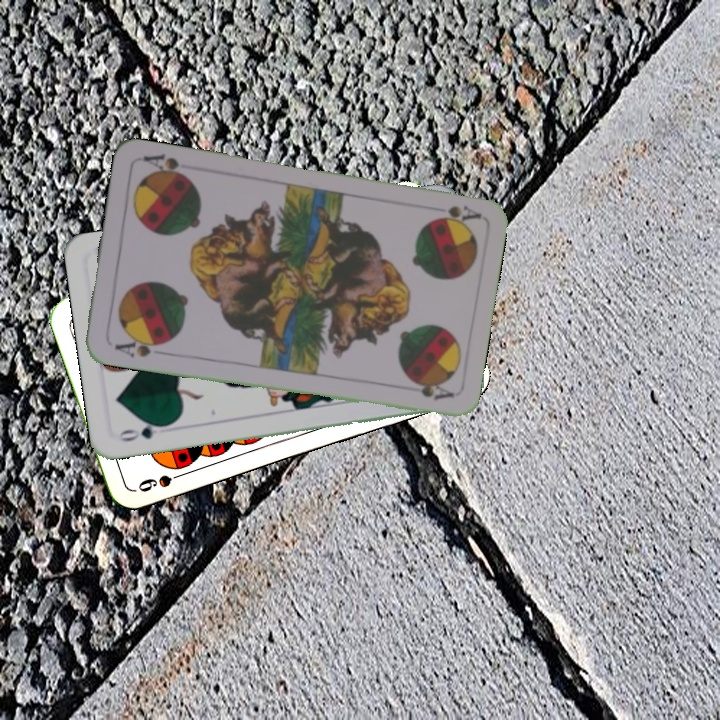GO: (114, 418, 172, 444)
S9: (133, 467, 190, 495)
SA: (110, 333, 168, 361), (429, 201, 483, 226)
